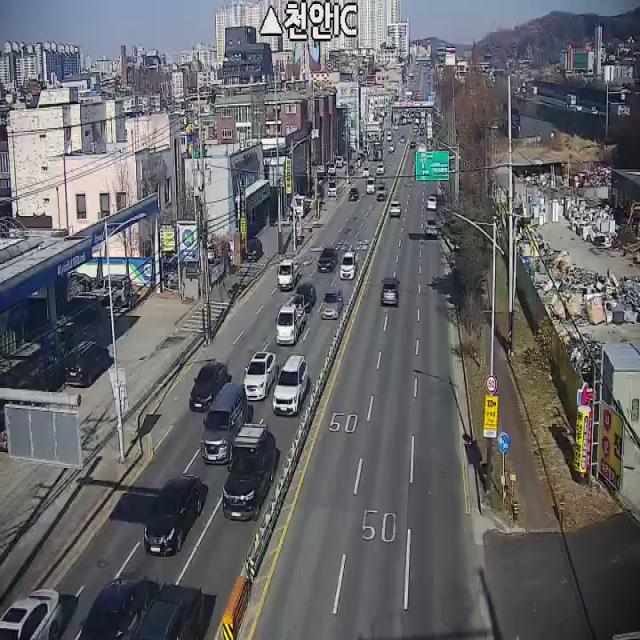Car: (78, 572, 159, 640), (223, 421, 276, 521), (144, 473, 202, 557), (130, 581, 203, 640), (201, 383, 248, 465), (0, 588, 63, 640), (272, 355, 308, 416), (189, 362, 228, 412), (65, 342, 109, 386), (244, 351, 277, 401), (96, 271, 133, 306), (321, 289, 343, 320), (296, 282, 316, 313), (380, 278, 400, 308), (318, 247, 338, 273), (340, 251, 357, 280), (245, 236, 263, 260), (424, 218, 438, 240), (389, 200, 402, 218), (376, 182, 386, 201), (327, 180, 337, 197), (427, 195, 437, 211), (348, 188, 359, 201)
Truck: (276, 294, 306, 344), (277, 259, 301, 291), (366, 176, 375, 193)
